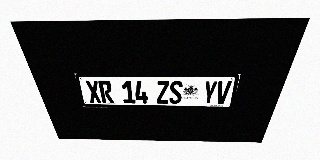1: (121, 81, 136, 103)
4: (134, 81, 148, 103)
R: (98, 81, 114, 103)
S: (169, 81, 183, 104)
V: (214, 81, 232, 104)
X: (85, 80, 102, 103)
Y: (202, 81, 218, 104)
Z: (156, 81, 169, 104)
